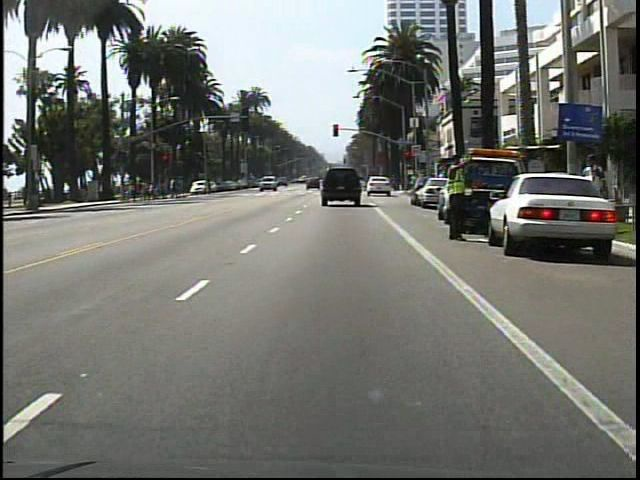person: (573, 147, 609, 240), (444, 148, 474, 246), (198, 175, 218, 203)
